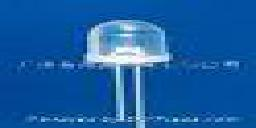LED: (80, 19, 175, 128)
